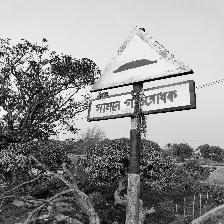Speed-breaker: (88, 26, 196, 125)
